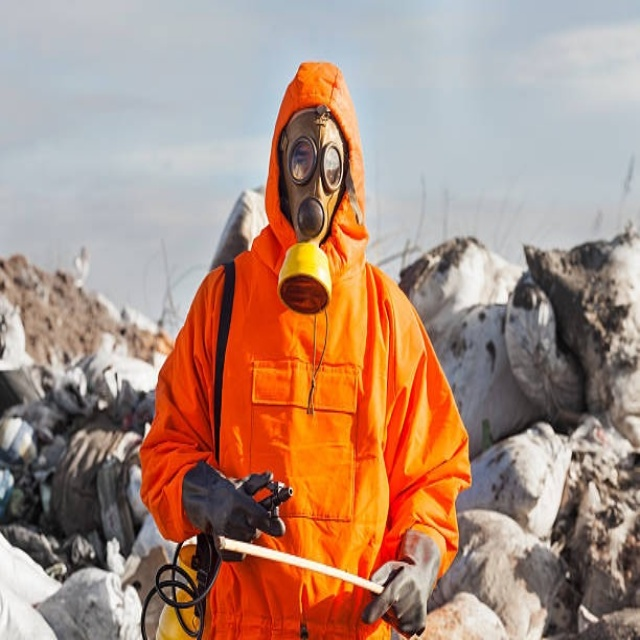Guantes: (182, 461, 287, 546), (362, 528, 440, 639)
Mascara: (271, 107, 351, 315)
